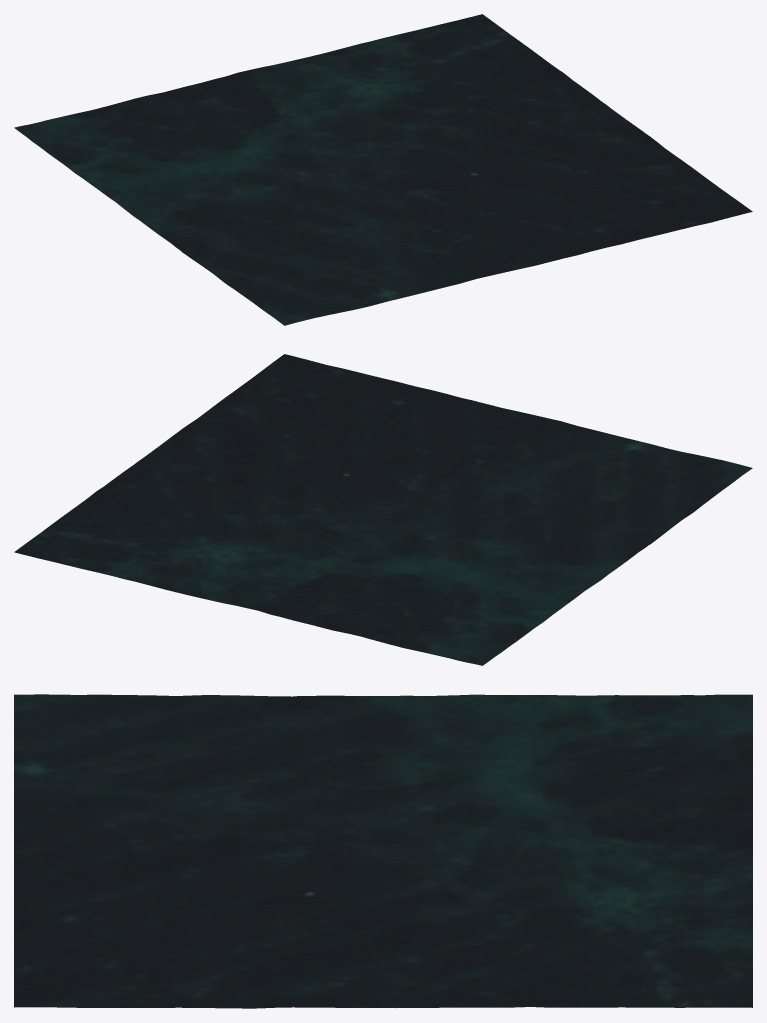
3 views of the same model, one above another, from view 1: azimuth 30°, elevation 25°; view 2: azimuth 150°, elevation 25°; view 3: azimuth 270°, elevation 25° (orthographic). The views are drawn at different scales.
Size of the model in its own units: 104 by 0.5507 by 104.
2 materials, 2 textured.
